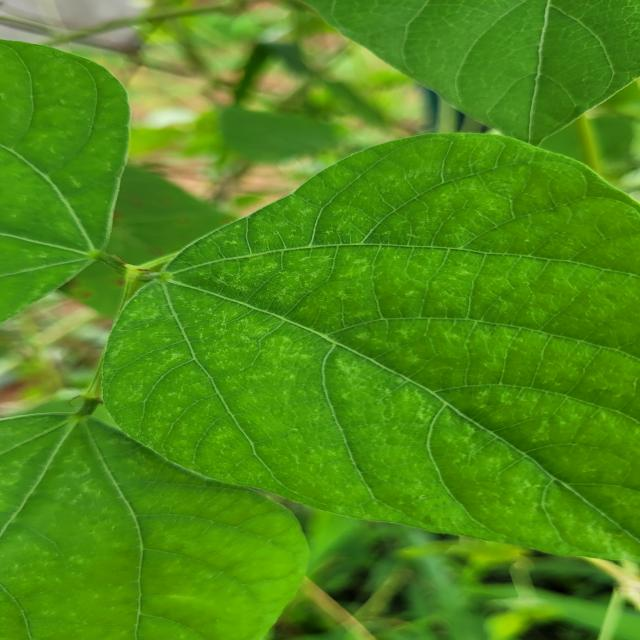Dolicos bean_healthy: (96, 135, 640, 564), (0, 394, 325, 640), (277, 0, 640, 138), (0, 22, 139, 321)
